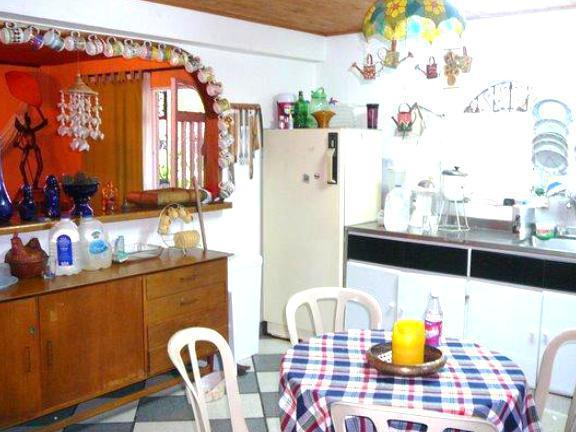Armario: (0, 253, 228, 432)
Electrodomestico: (268, 131, 346, 285)
Lavaplatos: (514, 183, 576, 262)
